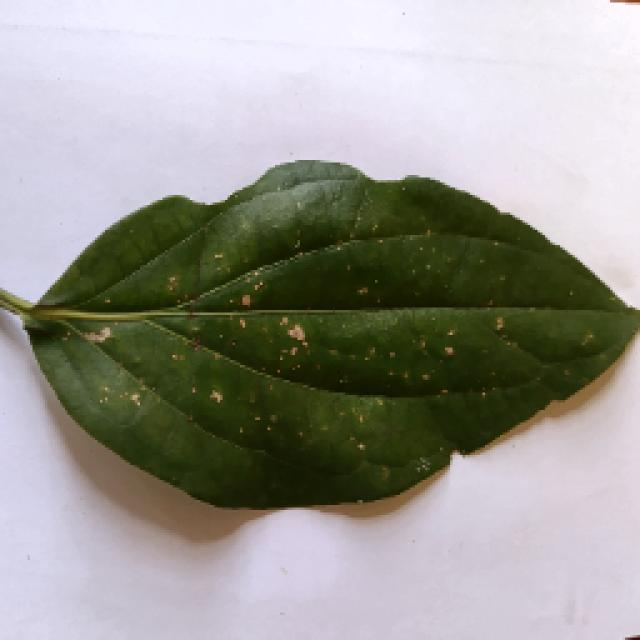pollu-disease: (5, 163, 633, 505)
